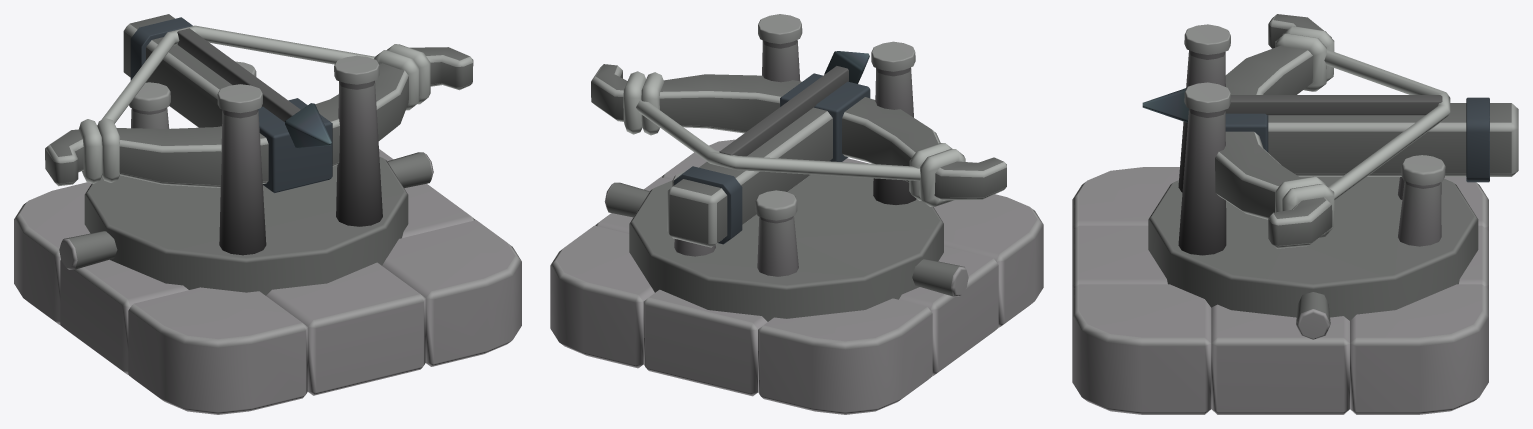
File: Attacker_2.fbx
The picture shows the model from 3 angles, left to right: view 1: azimuth 30°, elevation 25°; view 2: azimuth 150°, elevation 25°; view 3: azimuth 270°, elevation 25°; orthographic projection. The views are drawn at different scales.
Parts seen in each view (by area): view 1: Attacker_2, Bow 2, Arrow 2; view 2: Attacker_2, Bow 2, Arrow 2; view 3: Attacker_2, Bow 2, Arrow 2.
Boxes of the visible parts, box(x1,y1,x2,y2) form: Attacker_2: box(14, 55, 521, 414); Bow 2: box(45, 14, 473, 193); Arrow 2: box(177, 28, 331, 148); Attacker_2: box(550, 14, 1043, 414); Bow 2: box(591, 64, 1006, 247); Arrow 2: box(719, 51, 869, 156); Attacker_2: box(1072, 24, 1488, 414); Bow 2: box(1215, 14, 1518, 248); Arrow 2: box(1142, 88, 1442, 122).
Size of the model in its own units: 231 by 137 by 209.
